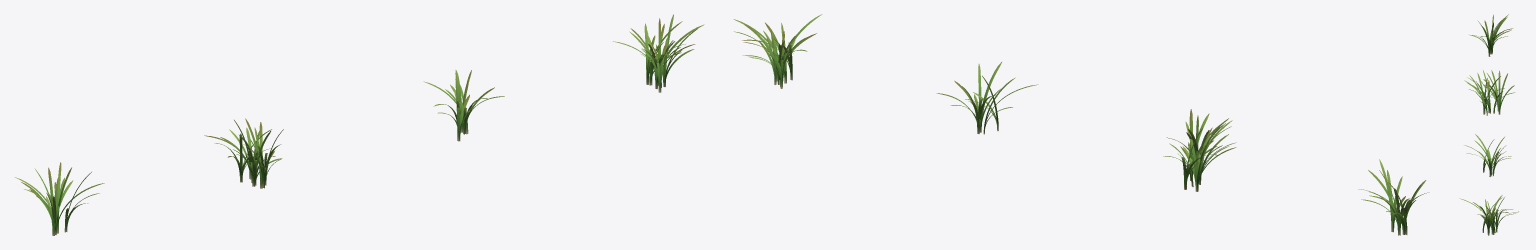
The picture shows the model from 3 angles, left to right: view 1: azimuth 30°, elevation 25°; view 2: azimuth 150°, elevation 25°; view 3: azimuth 270°, elevation 25°; orthographic projection. The views are drawn at different scales.
Parts seen in each view (by area): view 1: turtle-grass.003, turtle-grass.001, turtle-grass, turtle-grass.002; view 2: turtle-grass.001, turtle-grass.003, turtle-grass, turtle-grass.002; view 3: turtle-grass.001, turtle-grass.003, turtle-grass.002, turtle-grass.
Part boxes in pixels (x1,y1,x2,y2): turtle-grass.003: [613, 14, 704, 92]; turtle-grass.001: [204, 118, 283, 188]; turtle-grass: [14, 162, 104, 235]; turtle-grass.002: [423, 70, 504, 141]; turtle-grass.001: [1163, 109, 1236, 191]; turtle-grass.003: [733, 14, 822, 88]; turtle-grass: [1358, 159, 1429, 235]; turtle-grass.002: [936, 62, 1038, 134]; turtle-grass.001: [1464, 70, 1515, 115]; turtle-grass.003: [1459, 195, 1518, 235]; turtle-grass.002: [1464, 134, 1511, 176]; turtle-grass: [1469, 14, 1512, 56].
Bounding box in the file's own units: 10.12 × 0.9062 × 1.33.
